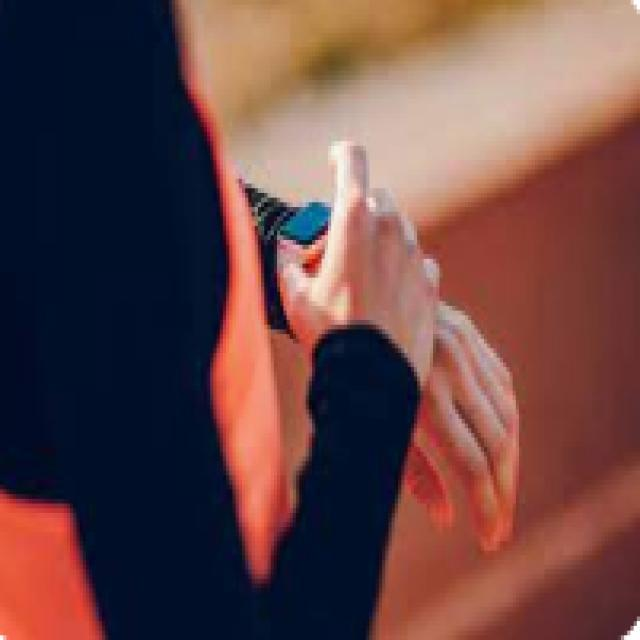Watch: (278, 201, 336, 265)
